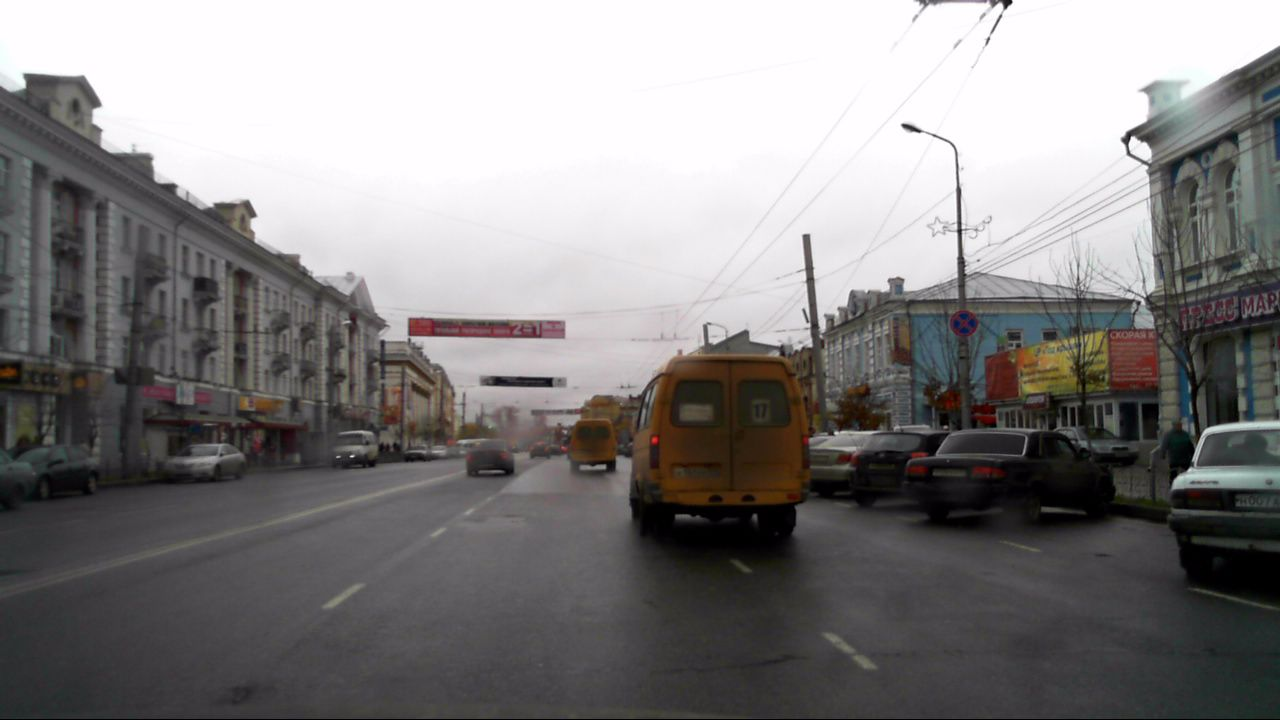No Parking: (950, 309, 978, 337)
